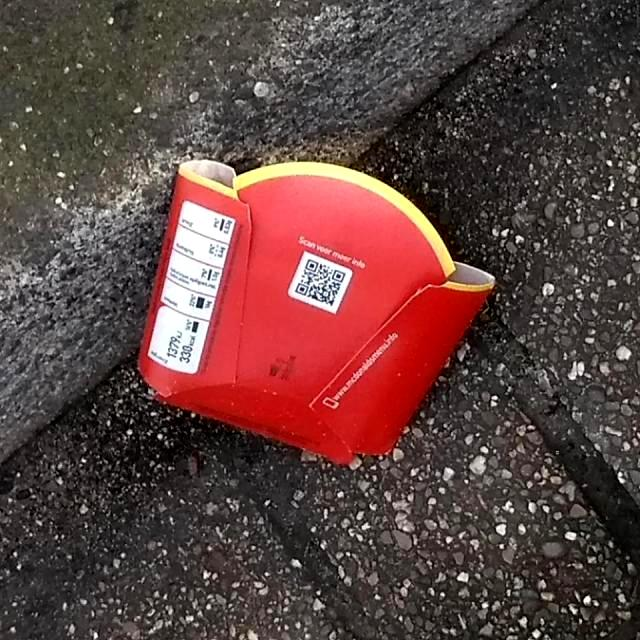Paper: (135, 155, 497, 471)
